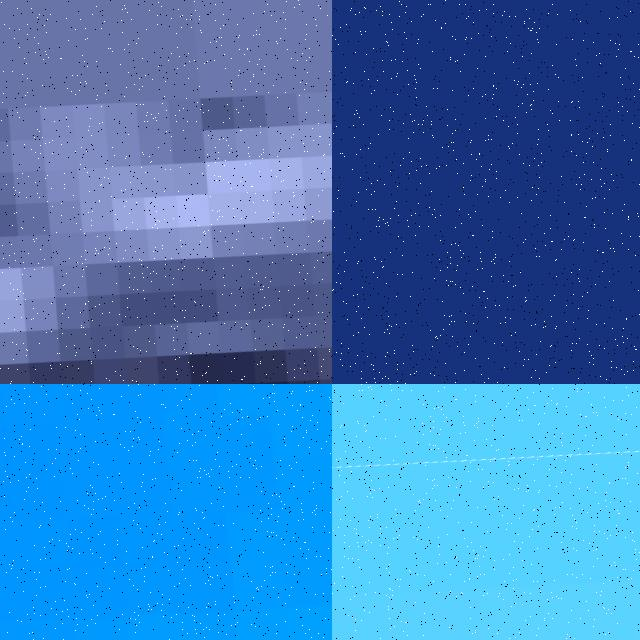drone: (0, 0, 332, 384), (0, 384, 332, 640), (332, 399, 640, 640)
